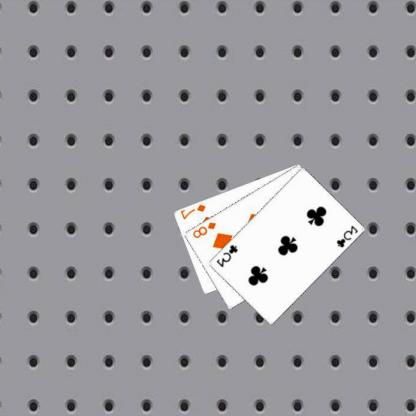3C: (335, 222, 361, 249), (216, 242, 240, 269)
7D: (180, 202, 209, 220)
8D: (192, 219, 219, 240)
